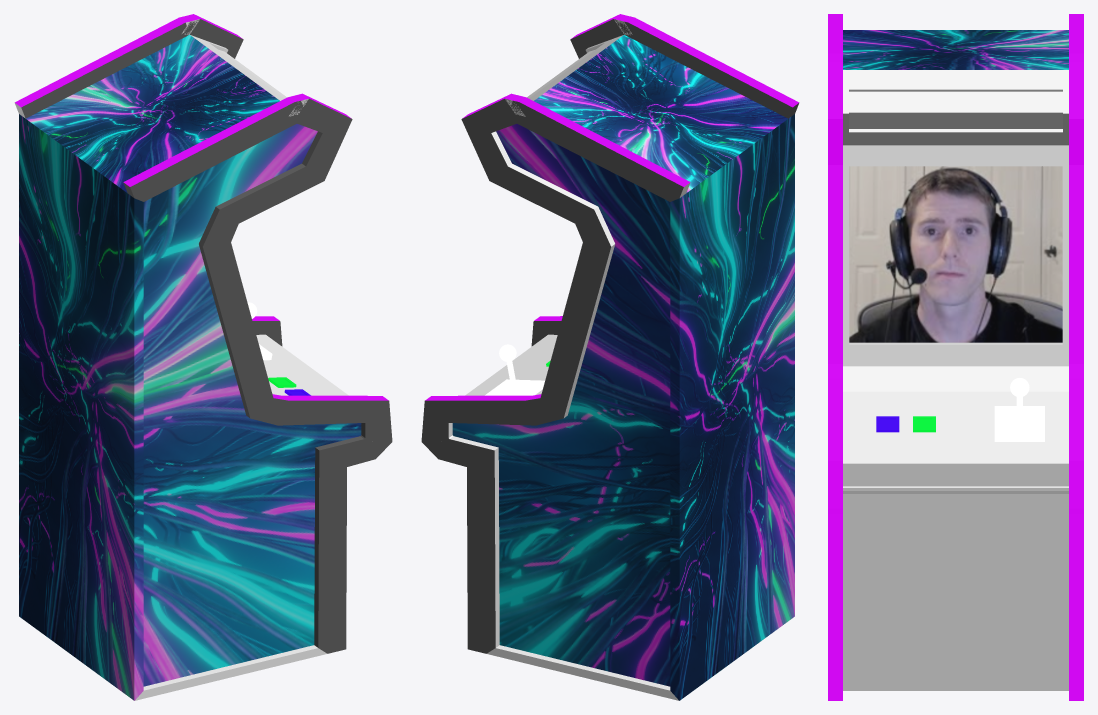
The model's file is arcade.gltf.
3 views of the same model, side by side, from view 1: azimuth 30°, elevation 25°; view 2: azimuth 150°, elevation 25°; view 3: azimuth 270°, elevation 25° (orthographic). The views are drawn at different scales.
Visible parts, largest first — view 1: arcademachine; view 2: arcademachine, joystick; view 3: arcademachine, screen, joystick, butBack.
Boxes of the visible parts, box(x1,y1,x2,y2) form: arcademachine: box(14, 14, 392, 700); arcademachine: box(421, 14, 799, 700); joystick: box(485, 344, 544, 395); arcademachine: box(828, 14, 1083, 700); screen: box(849, 166, 1062, 342); joystick: box(994, 378, 1044, 441); butBack: box(876, 416, 899, 432).
Size of the model in its own units: 2.73 by 5.56 by 2.08.
